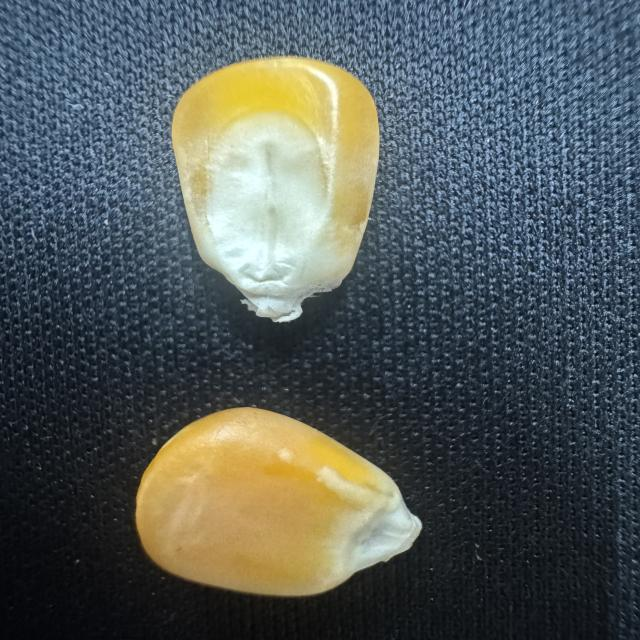Good-Seed: (166, 50, 384, 327), (129, 401, 429, 602)
